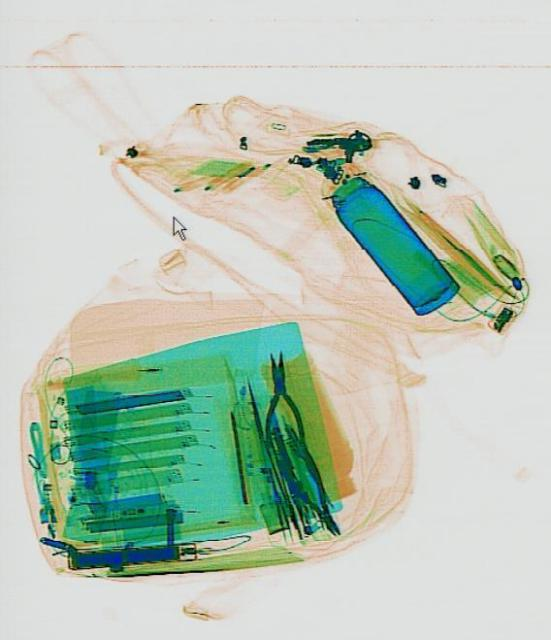Pliers: (262, 425, 353, 545), (255, 346, 304, 452)
